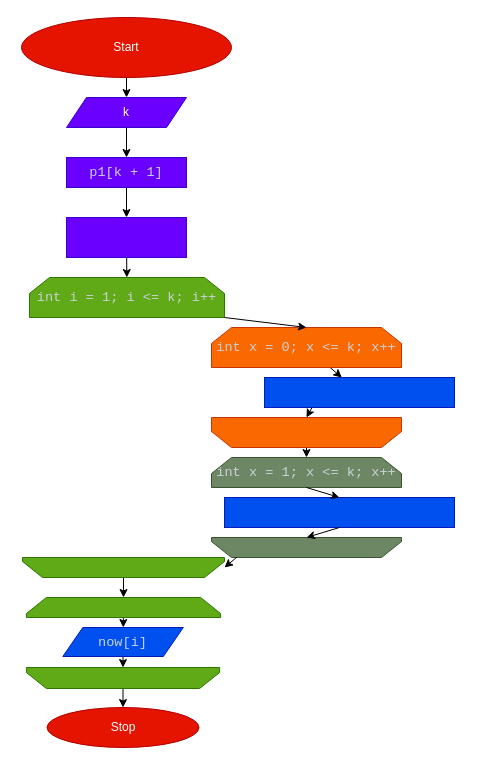
This 495x765 diagram has some shape labels left out. The shapes that lost their labels are listed below. From the top down, each one's centre as x and y in pixels, then its label:
At point (126, 237): "p2[k + 1]".
At point (359, 392): "prev[x] = now[x]".
At point (339, 512): "now[x] = prev[x - 1 ] + prev[x]".
At point (123, 607): "int i = 0 ; i <= k; i++".
